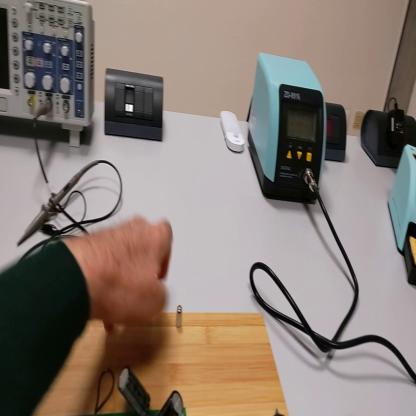hand: (84, 216, 174, 328)
high voltage board: (93, 366, 188, 413)
oscilloscope: (1, 1, 99, 147)
oscilloscope probe tip: (17, 159, 101, 253)
socket: (363, 103, 416, 170), (326, 101, 349, 166)
welder base: (389, 141, 416, 287)
welder station: (250, 51, 328, 203)
working area: (44, 306, 287, 416)
